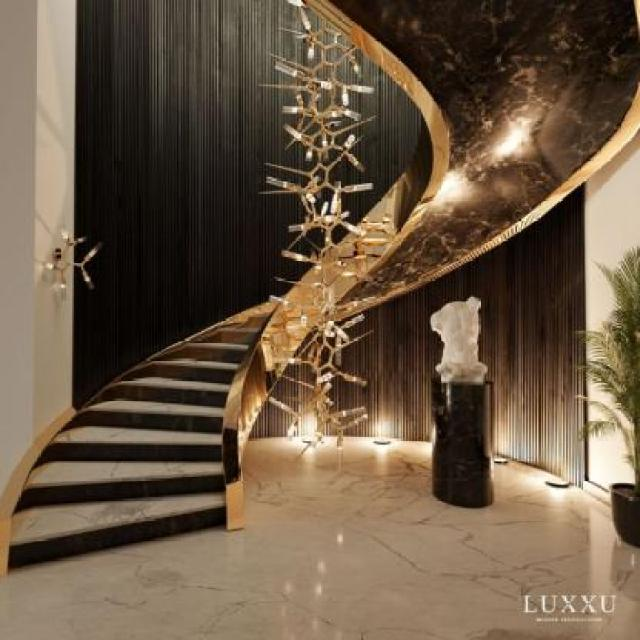Floor: (0, 436, 639, 640)
